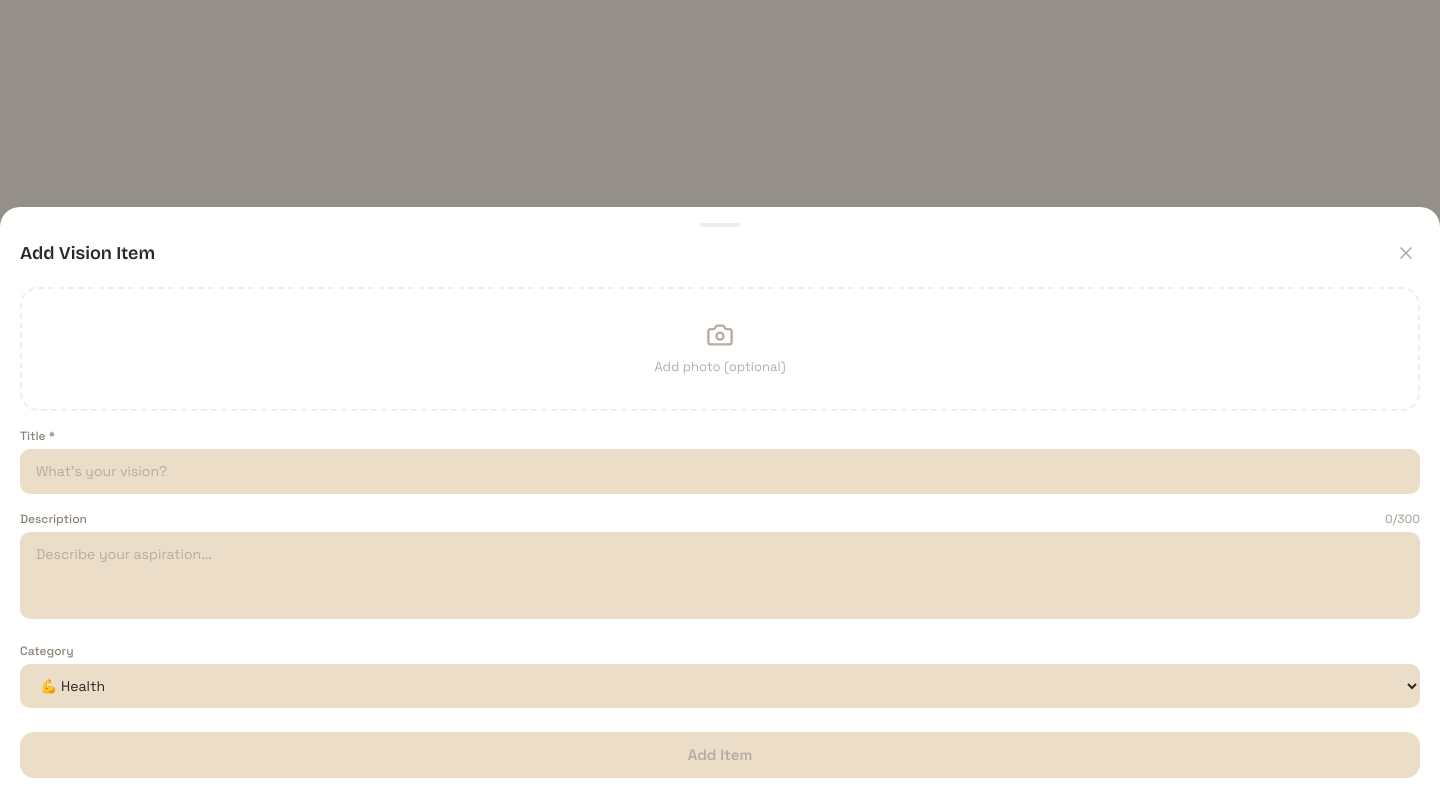
Test: AddVisionItemForm › enables save button when title is entered
The image size is (1440, 810).
Type "My goal" into the field with test id "title-input".
click(720, 471); type("My goal")  # box [20, 448, 1420, 494]
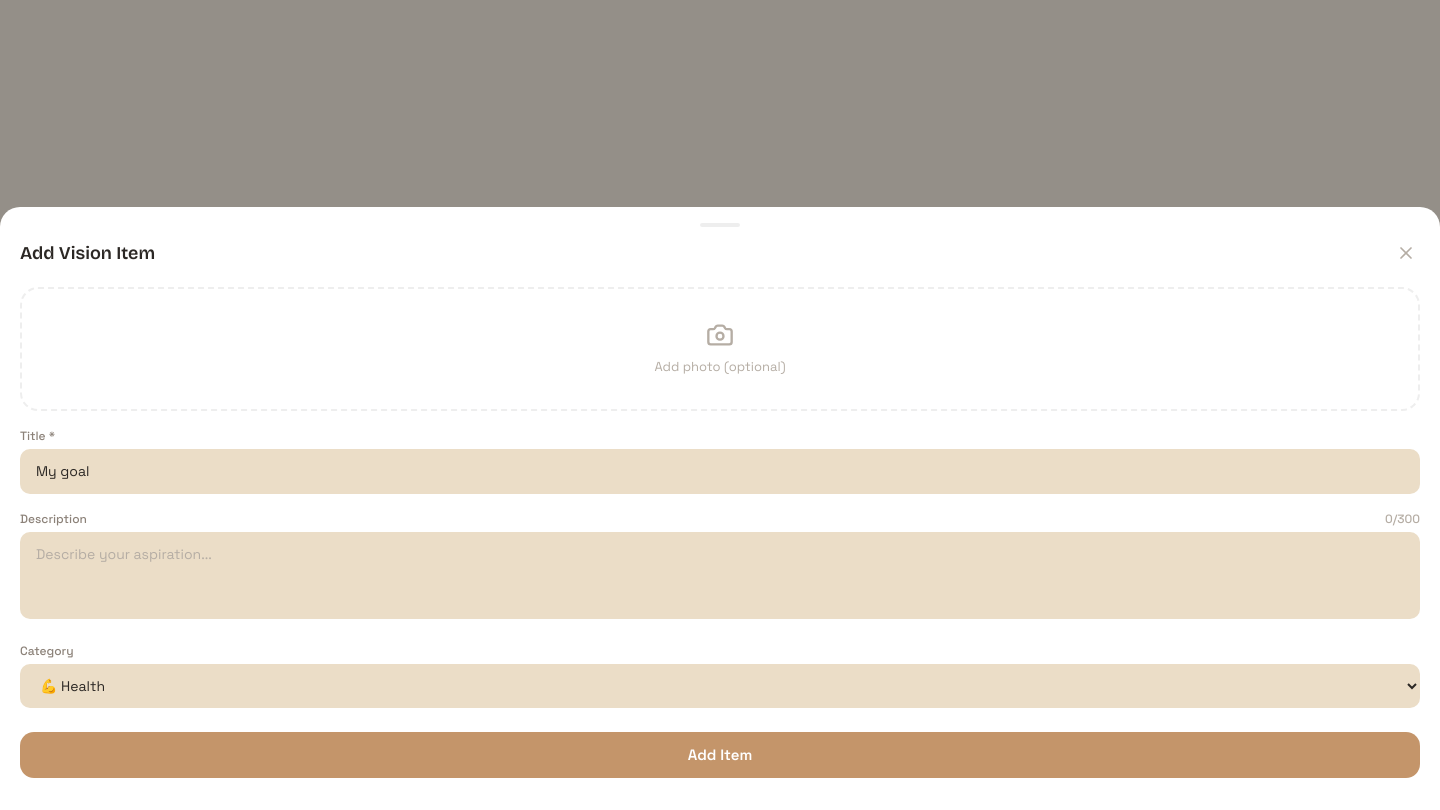
Expected: the button with test id "save-item-btn" is enabled, [20, 732, 1420, 778]
